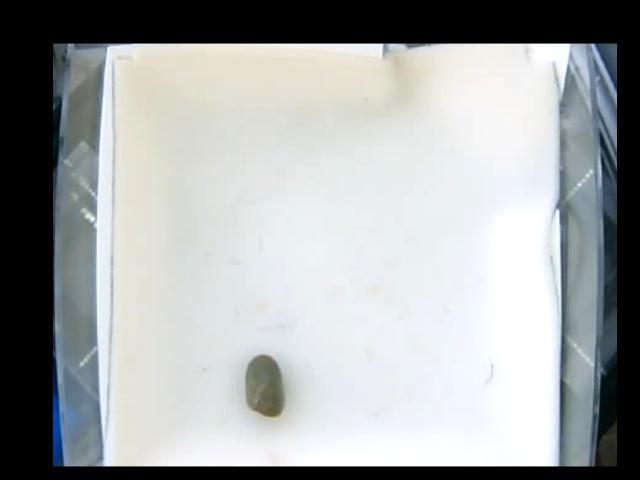Pebble: (246, 352, 284, 417)
